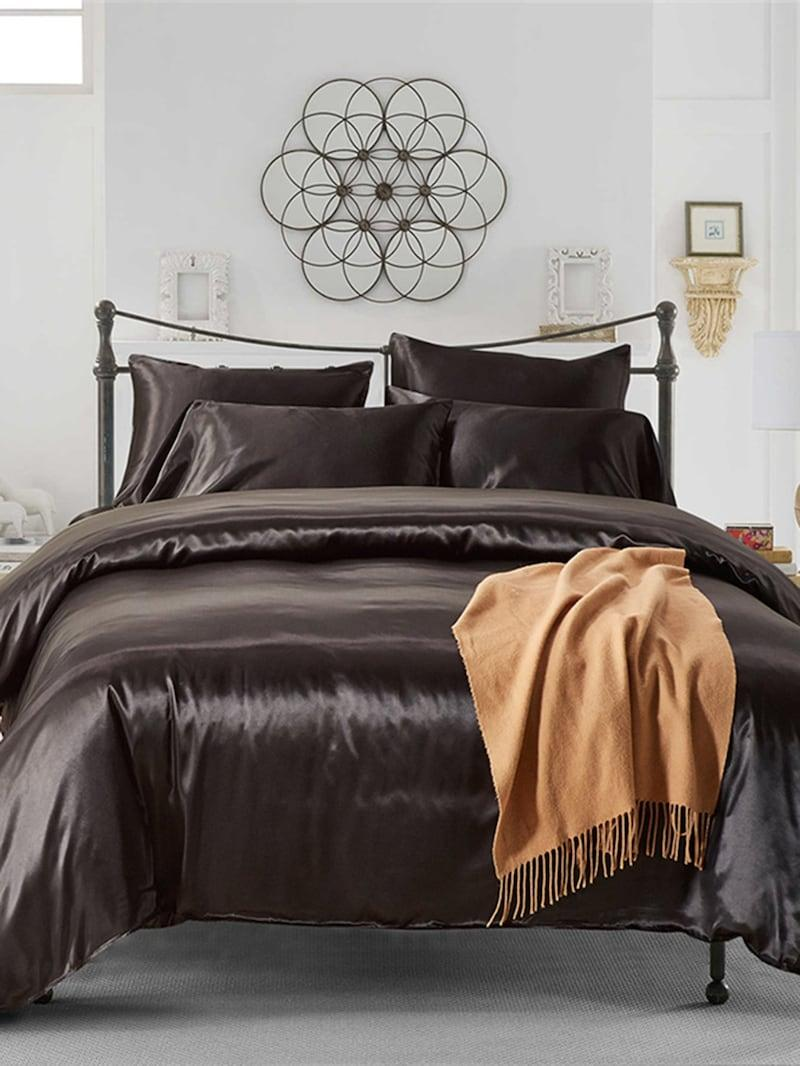bed: (47, 295, 800, 1066)
